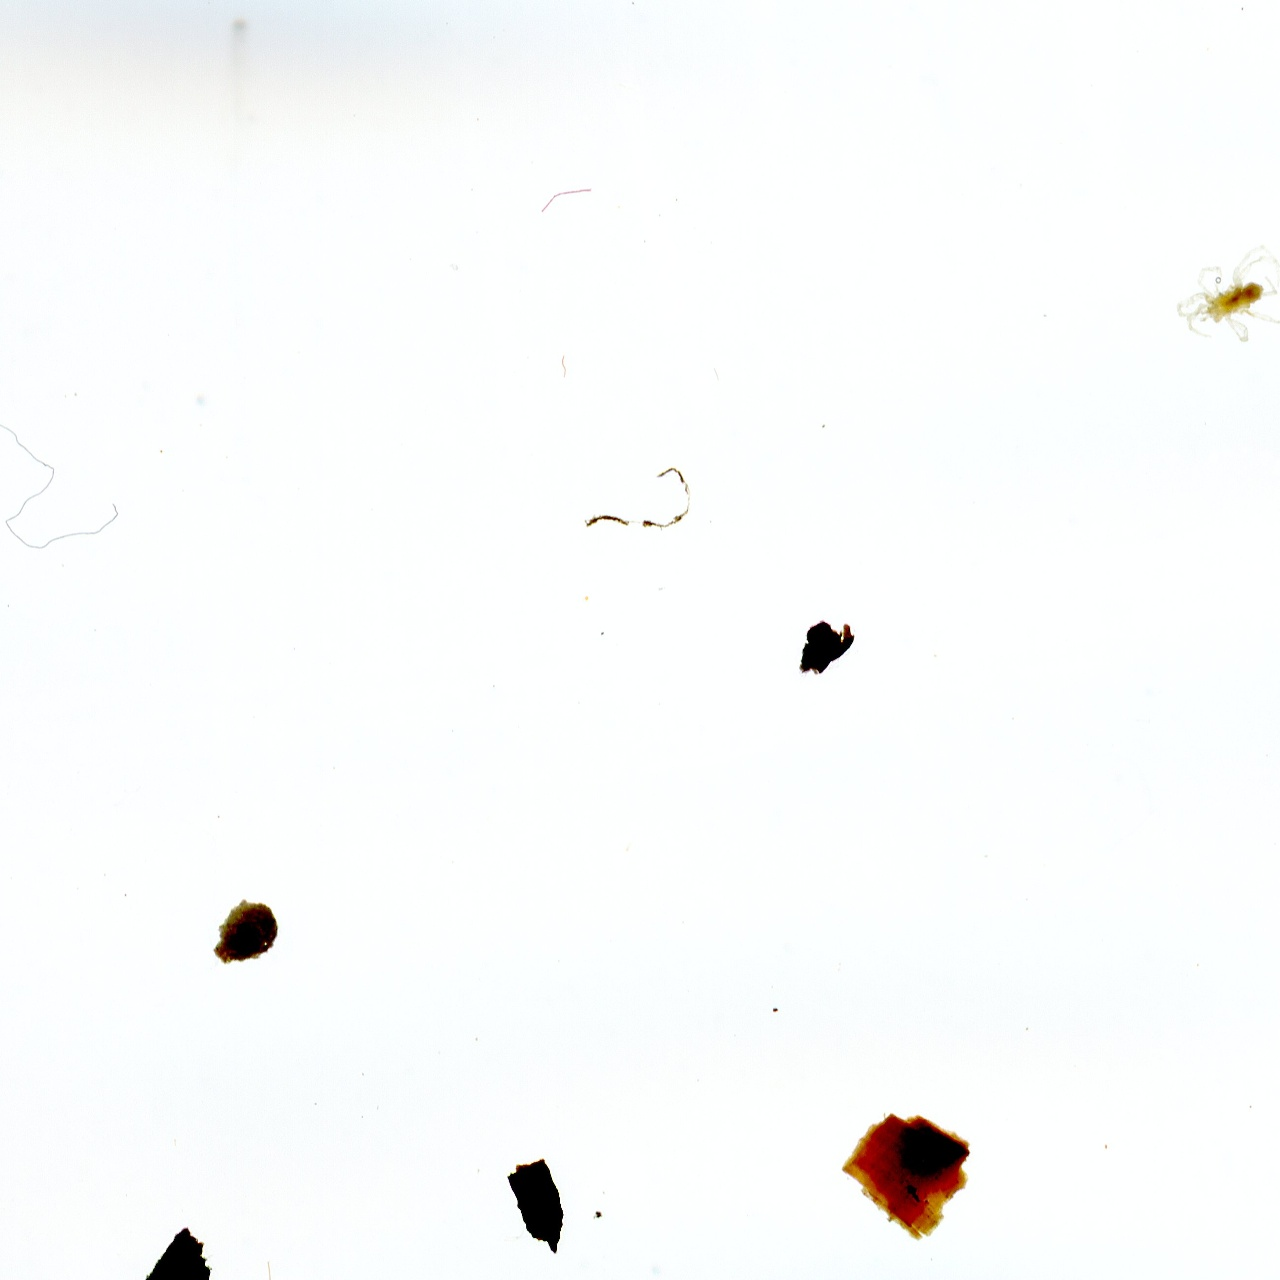arthropod: (1171, 235, 1280, 349)
